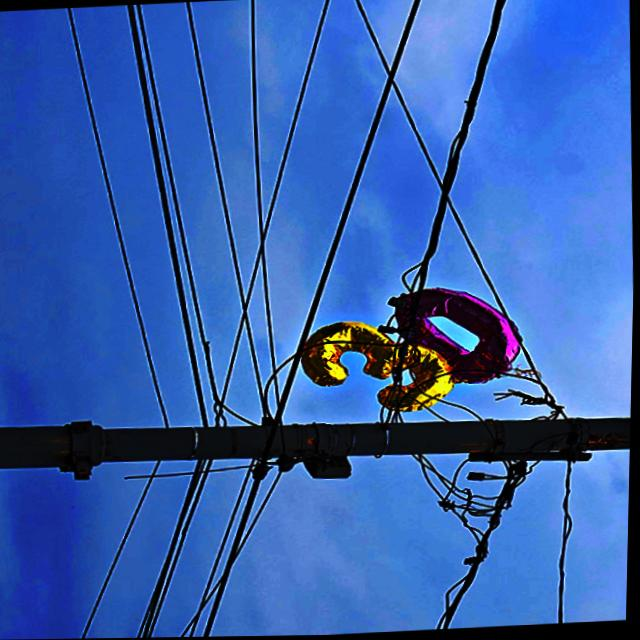obstruction: (298, 288, 522, 414)
poles: (0, 417, 632, 473)
wires: (197, 0, 385, 357), (86, 6, 197, 425), (71, 468, 252, 639), (405, 0, 504, 293), (418, 460, 539, 631)
